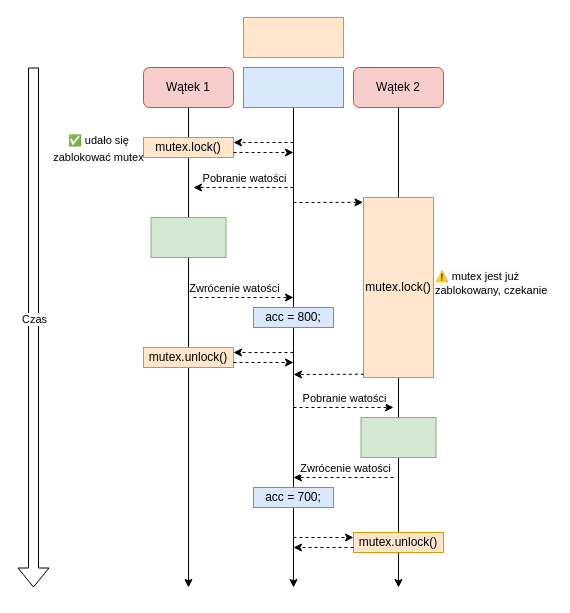
Some shapes in this 570 by 613 pixel diagram are drawn without their labels. Each missing label, with the centre of its shape:
"acc -= 100;" belongs at [398,437].
"acc -= 200;" belongs at [188,237].
"mutex" belongs at [293,37].
"Zmienna acc = 1000;" belongs at [293,87].
